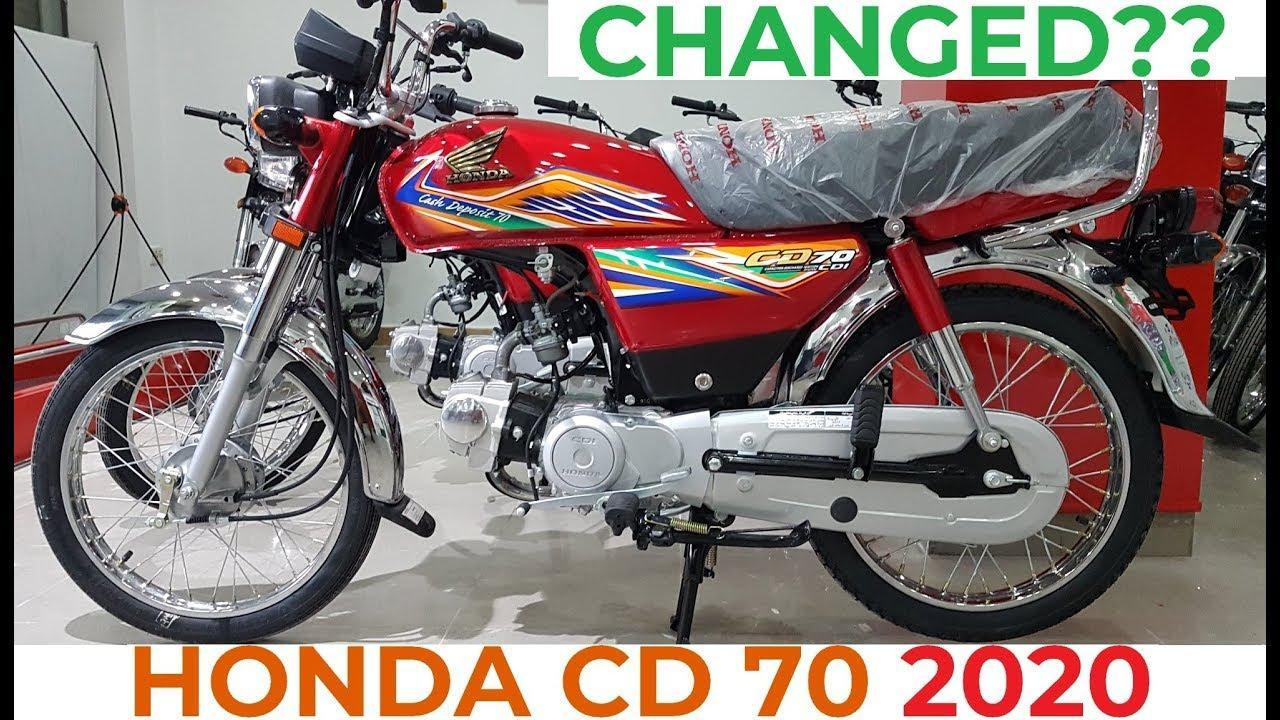bike: (40, 6, 1219, 646)
